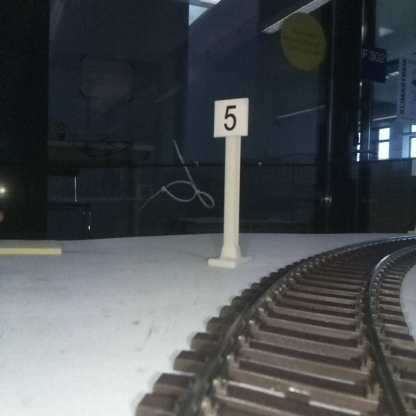white-info-5: (214, 96, 248, 266)
